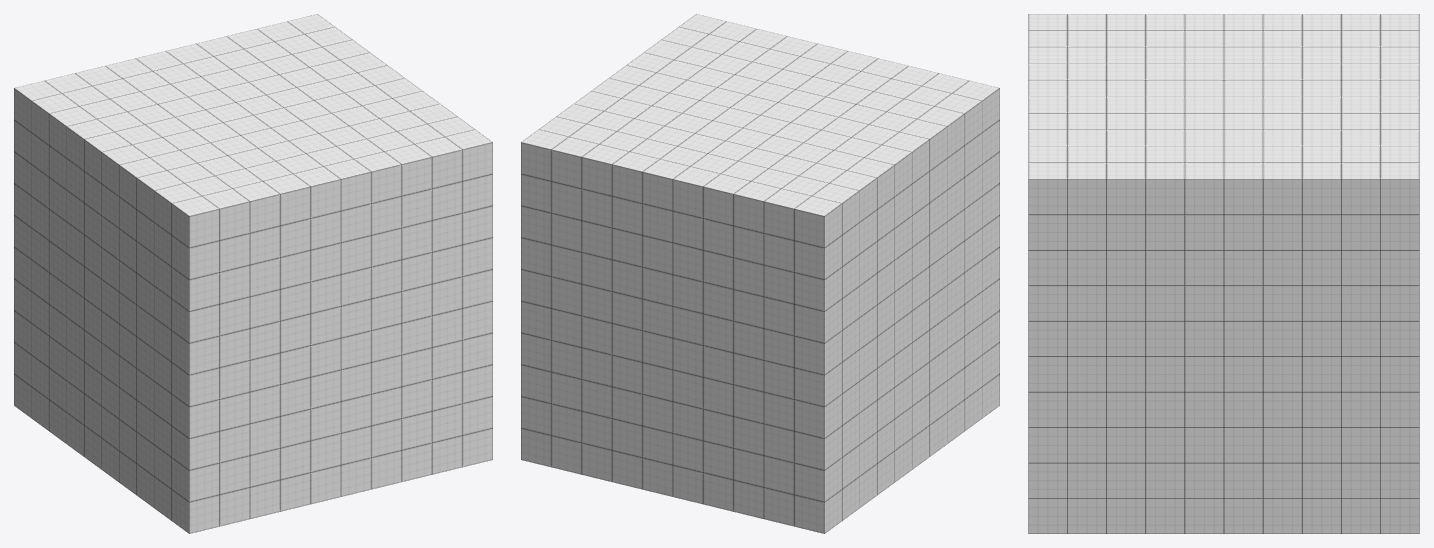
The model's file is labbox.obj.
3 renders of one model, left to right at view 1: azimuth 30°, elevation 25°; view 2: azimuth 150°, elevation 25°; view 3: azimuth 270°, elevation 25°, orthographic. The views are drawn at different scales.
Visible parts, largest first — view 1: labbox:pCube1; view 2: labbox:pCube1; view 3: labbox:pCube1.
Part boxes in pixels (bbox=[...]): labbox:pCube1: bbox=[14, 14, 492, 533]; labbox:pCube1: bbox=[521, 14, 999, 533]; labbox:pCube1: bbox=[1028, 14, 1419, 533].
Size of the model in its own units: 50 by 50 by 50.
